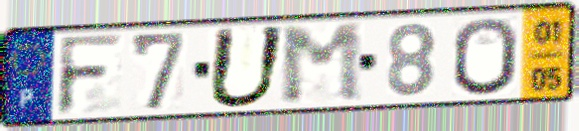7: (127, 31, 191, 113)
8: (385, 20, 439, 99)
F: (53, 31, 127, 118)
M: (277, 20, 366, 108)
O: (450, 15, 521, 98)
U: (203, 23, 291, 112)
